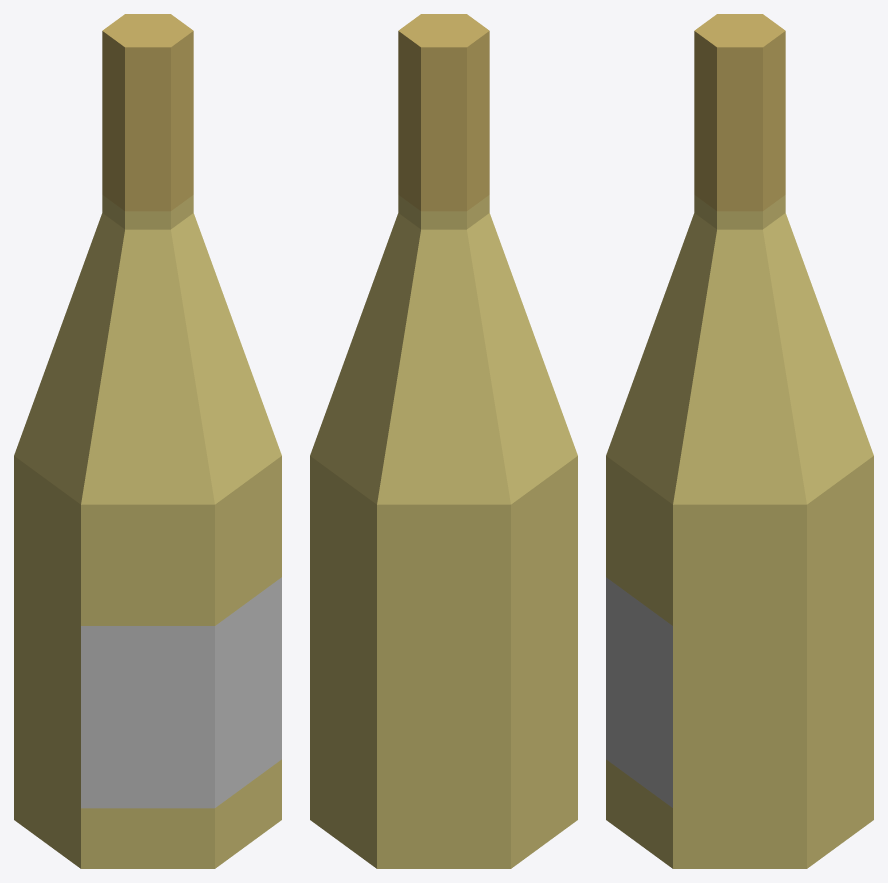
File: BottleWine2.fbx
The picture shows the model from 3 angles, left to right: view 1: azimuth 30°, elevation 25°; view 2: azimuth 150°, elevation 25°; view 3: azimuth 270°, elevation 25°; orthographic projection.
Visible parts, largest first — view 1: Cylinder; view 2: Cylinder; view 3: Cylinder.
Boxes of the visible parts, x1,y1,x2,y2 form: Cylinder: (14,14,281,868); Cylinder: (310,14,577,868); Cylinder: (606,14,873,868).
Bounding box in the file's own units: 0.1732 × 0.65 × 0.2.
